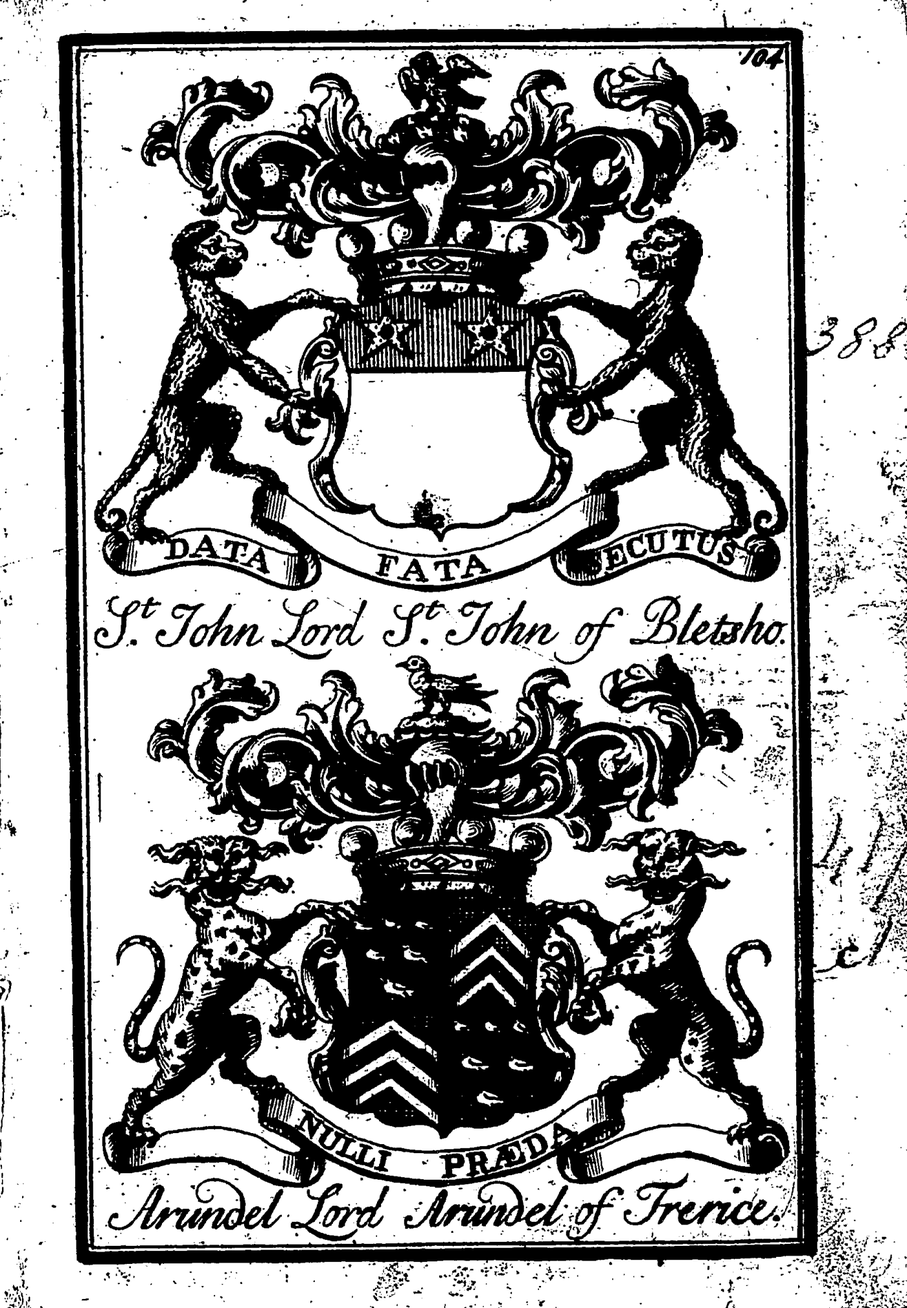coat_of_arms: (86, 50, 788, 647), (106, 653, 781, 1226)
